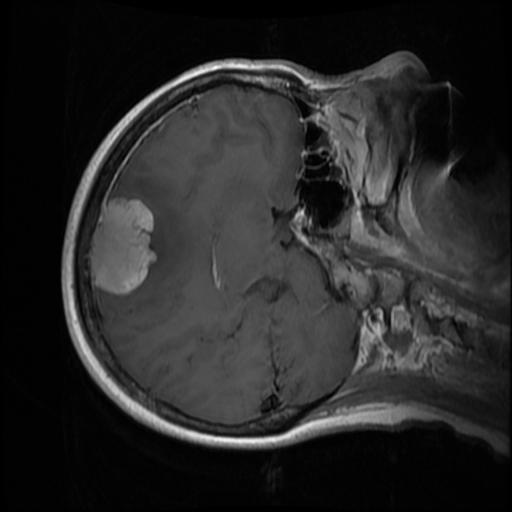meningioma: (89, 198, 157, 296)
